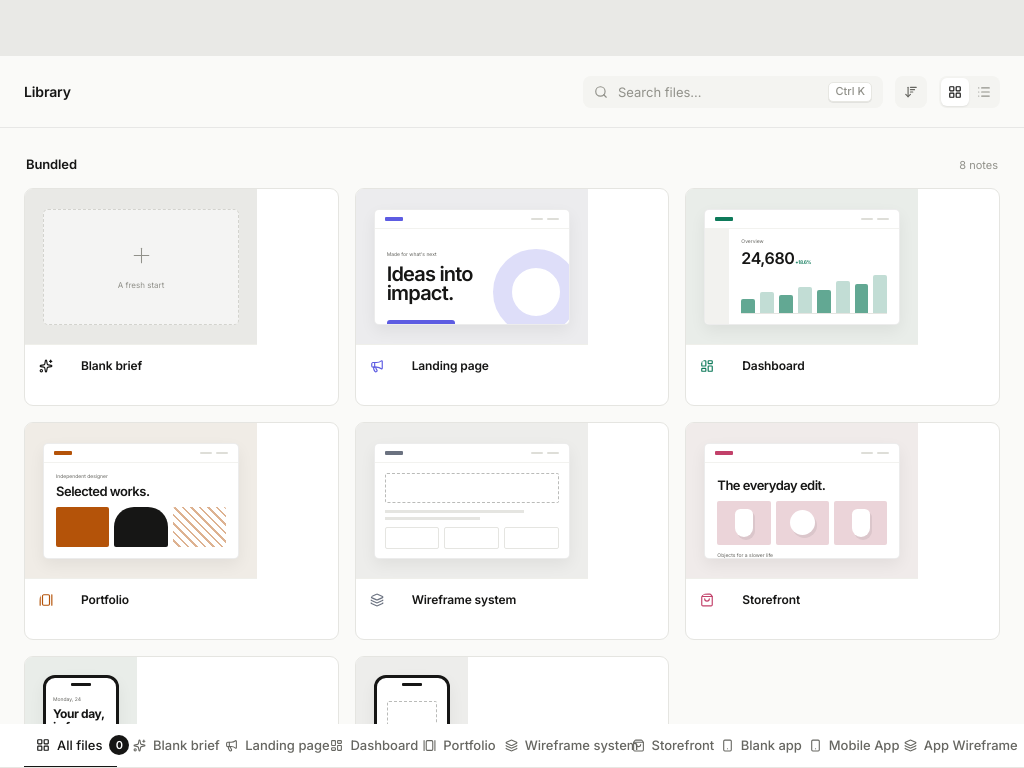
Test case: ProjectLake bundled templates › routes the blank card through the canvas chooser
Click the button with test id "create-kind-blank": coordinates (181, 297) [24, 188, 339, 406]
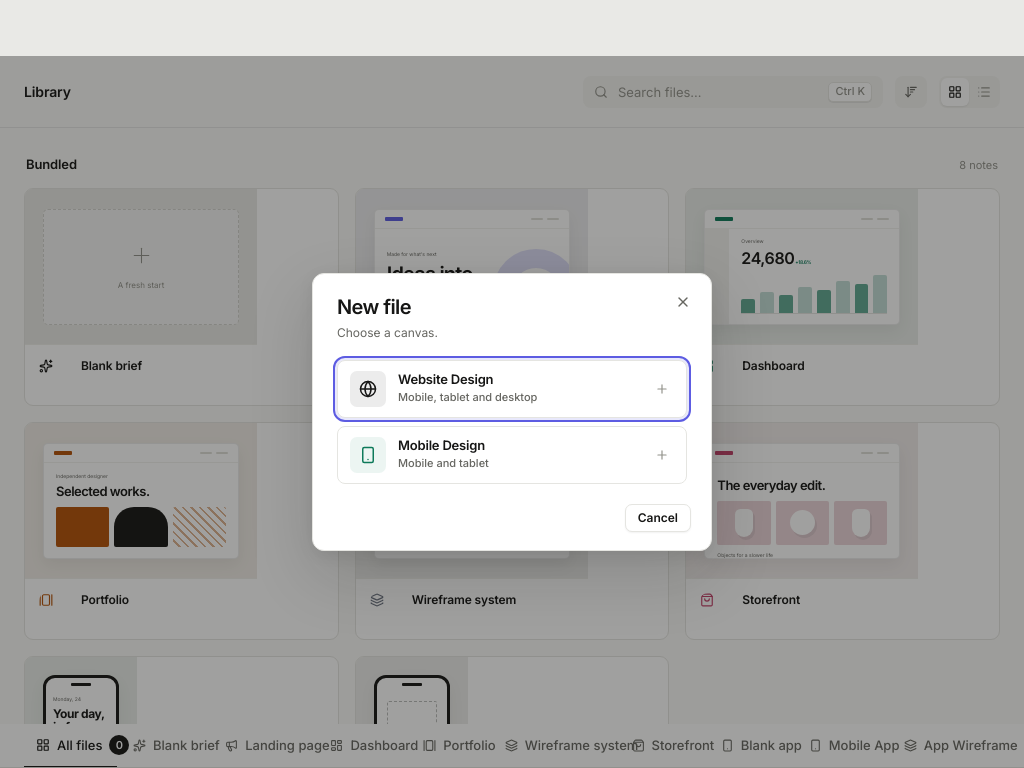
Expected: the dialog with test id "blank-chooser" is shown, [312, 273, 712, 551]
Click the button with test id "blank-choose-website": coordinates (512, 389) [337, 360, 687, 418]
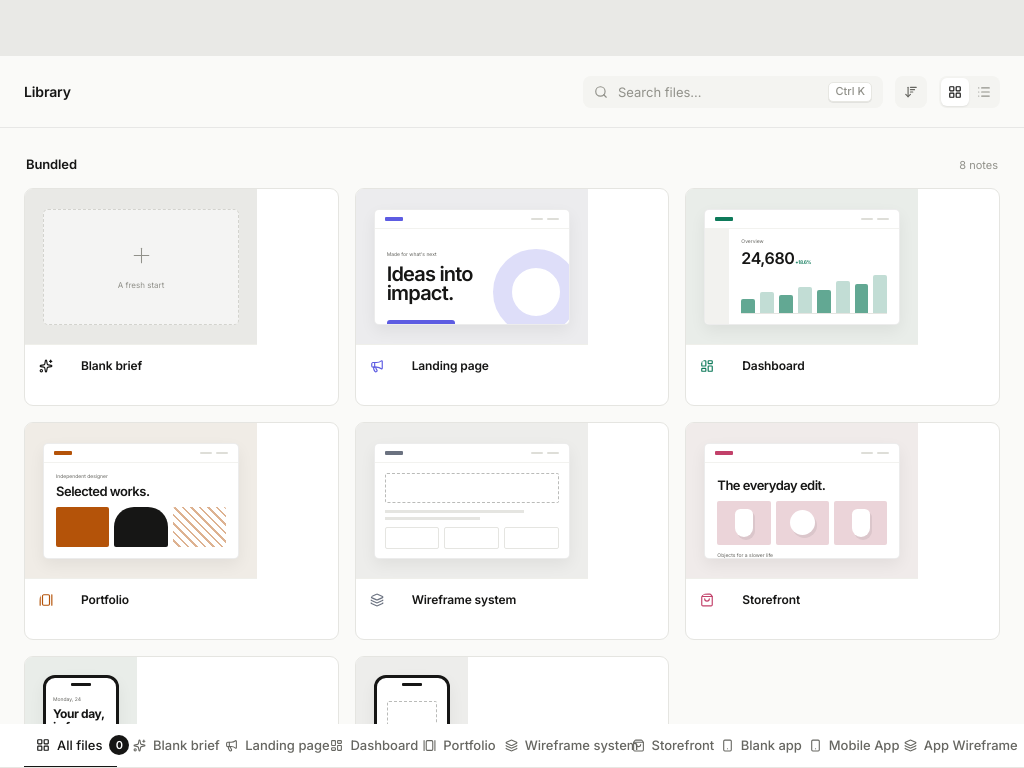
Expected: the dialog with test id "blank-chooser" is gone
